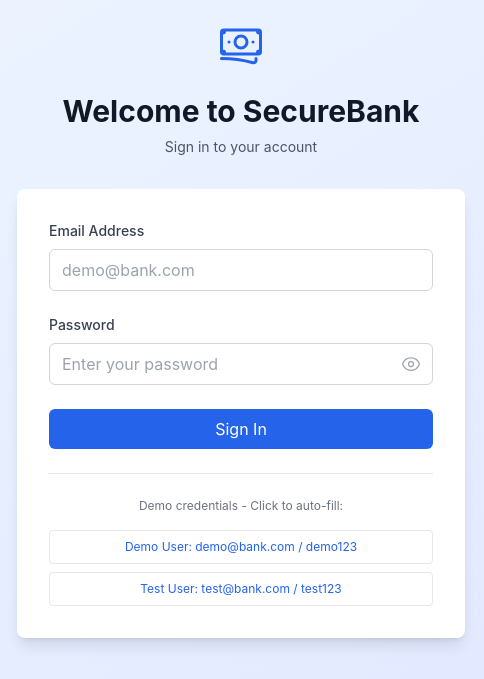
Login › displays validation error for short password
This screenshot has width=484, height=679.
Type "test@example.com" into the field with placeholder "demo@bank.com" at (241, 270), box left=49, top=248, right=433, bottom=290
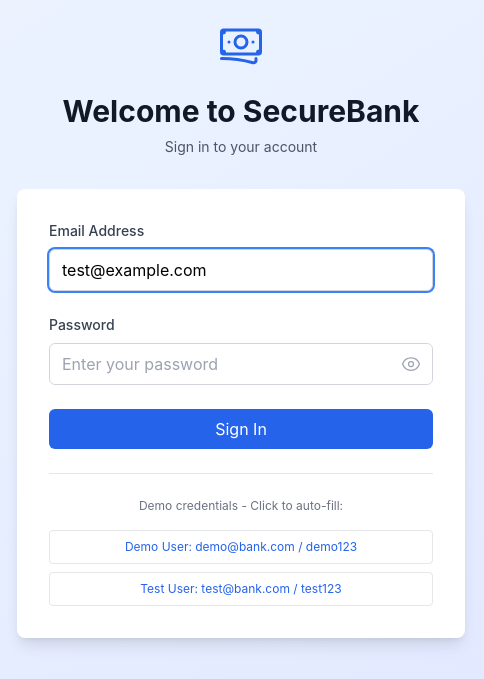
Type "123" into the password field with placeholder "Enter your password" at (241, 364), box left=49, top=342, right=433, bottom=384
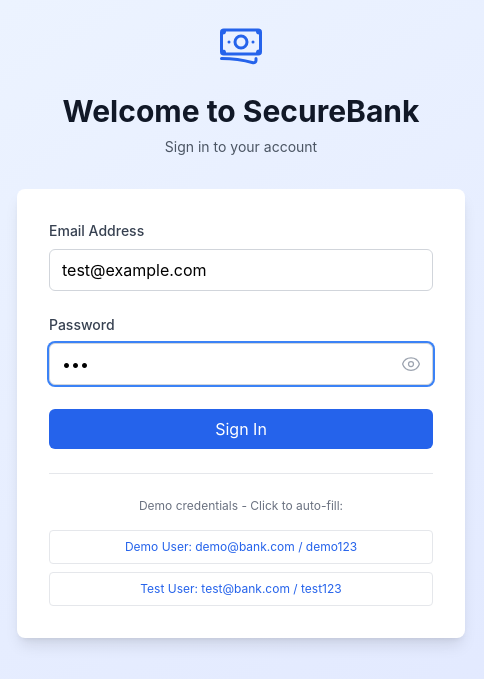
Click the button "Sign In" at (241, 428), box left=49, top=408, right=433, bottom=448
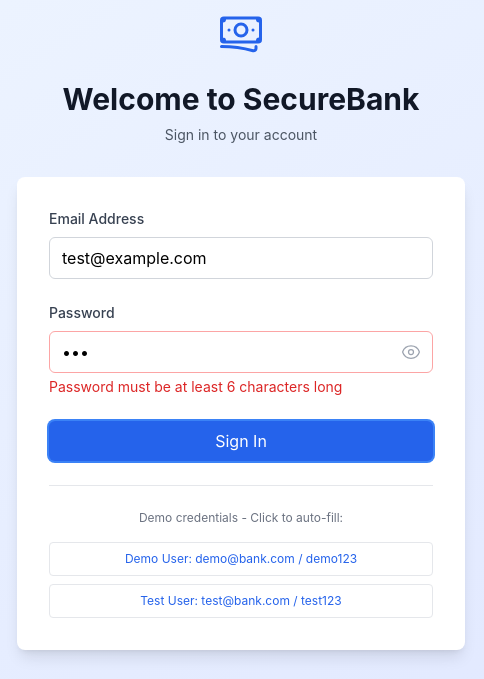
Expected: the text "Password must be at least 6 characters long" is shown, left=49, top=378, right=342, bottom=394
